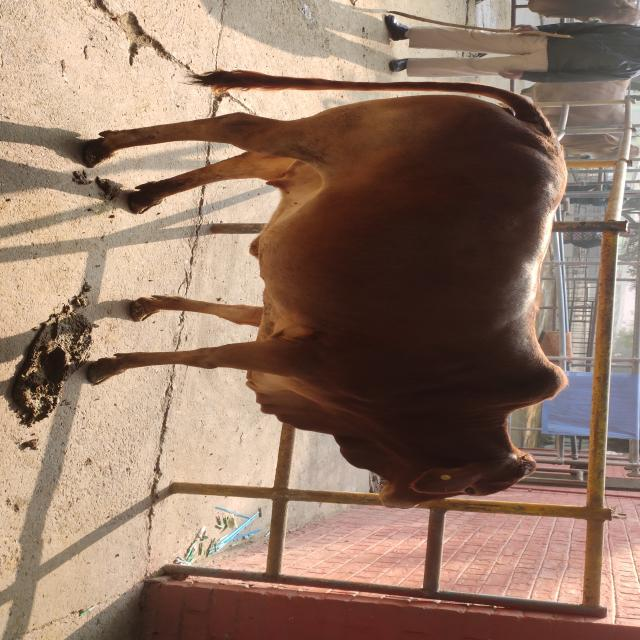cow: (80, 68, 570, 510)
hump: (508, 335, 576, 426)
